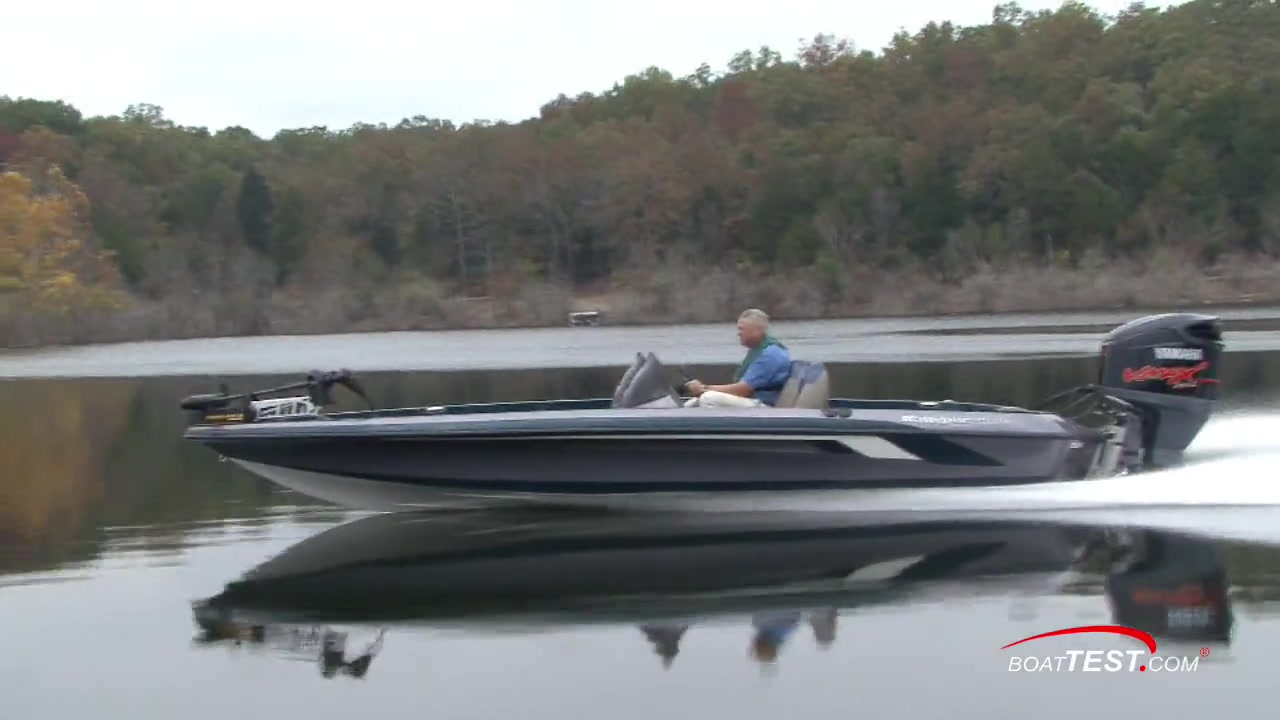boat: (173, 314, 1225, 499)
